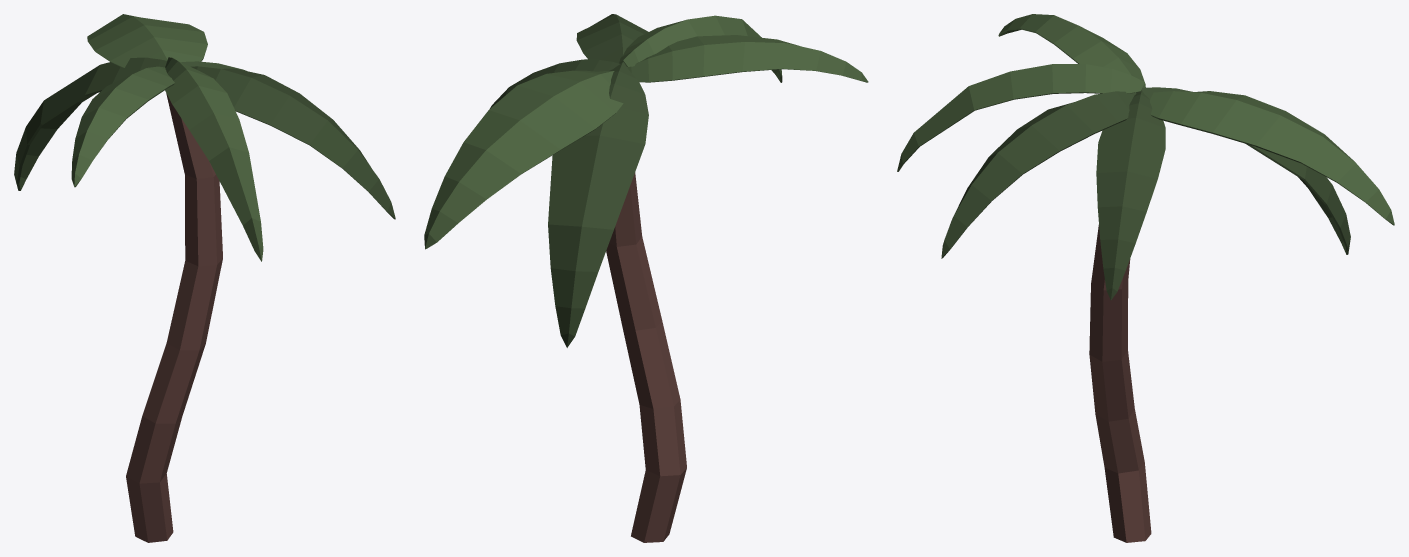
File: PalmTree_2.glb
3 renders of one model, left to right at view 1: azimuth 30°, elevation 25°; view 2: azimuth 150°, elevation 25°; view 3: azimuth 270°, elevation 25°, orthographic. The views are drawn at different scales.
Parts seen in each view (by area): view 1: PalmTree_2; view 2: PalmTree_2; view 3: PalmTree_2.
Part boxes in pixels (x1=…): PalmTree_2: x1=14, y1=14, x2=395, y2=542; PalmTree_2: x1=424, y1=14, x2=868, y2=542; PalmTree_2: x1=897, y1=14, x2=1394, y2=542.
Size of the model in its own units: 1.09 by 1.52 by 1.44.
